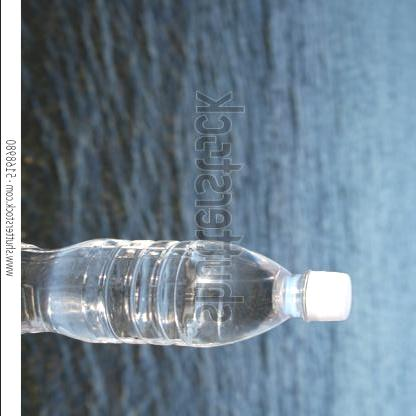bottle: (42, 232, 350, 352)
